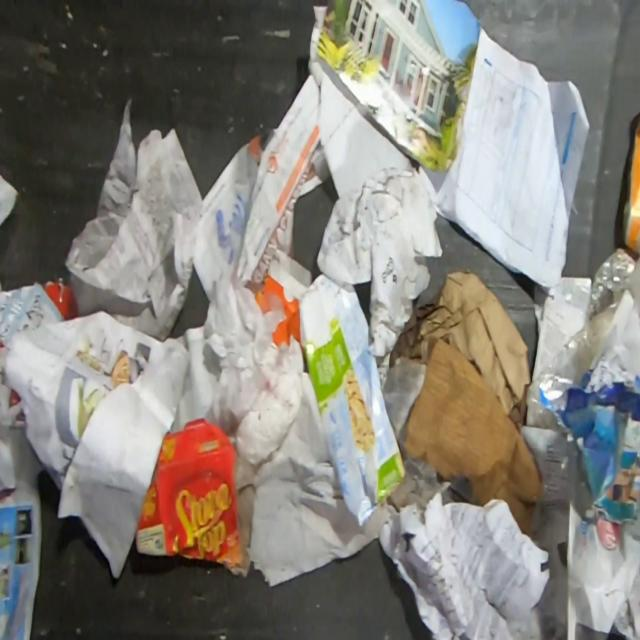cardboard: (402, 336, 544, 535), (538, 368, 640, 540), (133, 417, 243, 566), (620, 112, 640, 263), (41, 273, 74, 320)
rigid_plastic: (525, 247, 640, 431)
